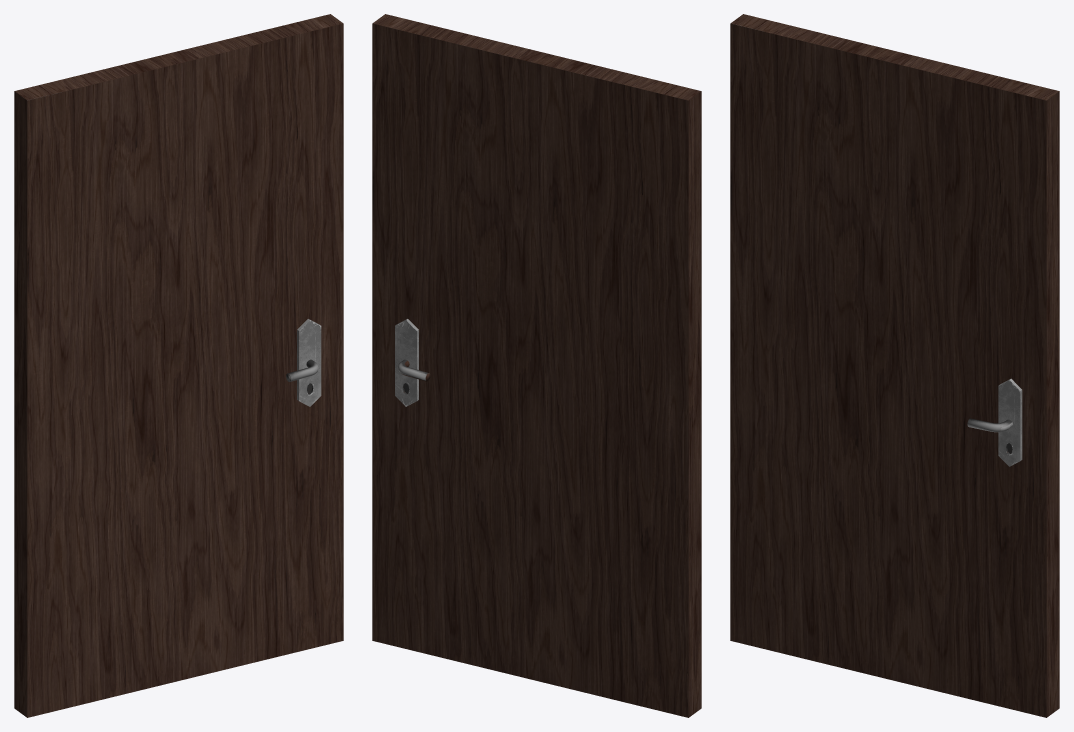
File: AslanHouse_Bathroom_Door.fbx
3 views of the same model, side by side, from view 1: azimuth 30°, elevation 25°; view 2: azimuth 150°, elevation 25°; view 3: azimuth 330°, elevation 25° (orthographic).
Parts seen in each view (by area): view 1: Plane.017; view 2: Plane.017; view 3: Plane.017.
Part boxes in pixels (left/top/right/bottom): Plane.017: left=14, top=14, right=343, bottom=717; Plane.017: left=372, top=14, right=701, bottom=717; Plane.017: left=730, top=14, right=1059, bottom=717.
Bounding box in the file's own units: 128 × 239 × 27.42.
Materials: 1 (1 with a texture image).
